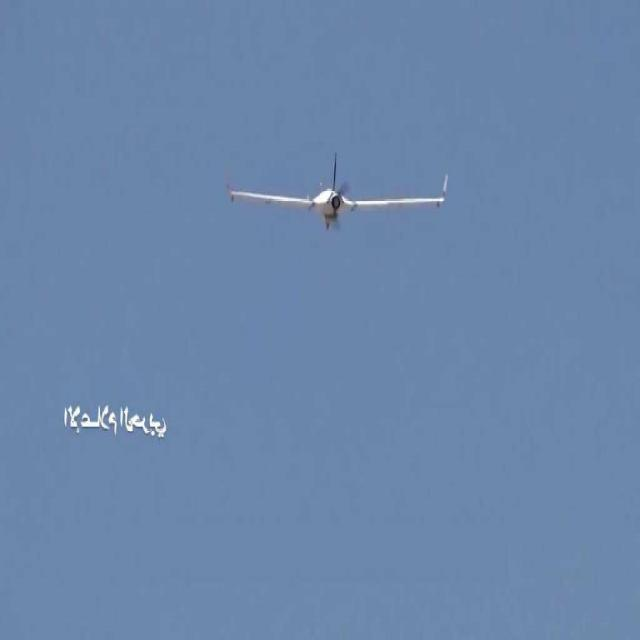iha: (225, 186, 455, 203)
